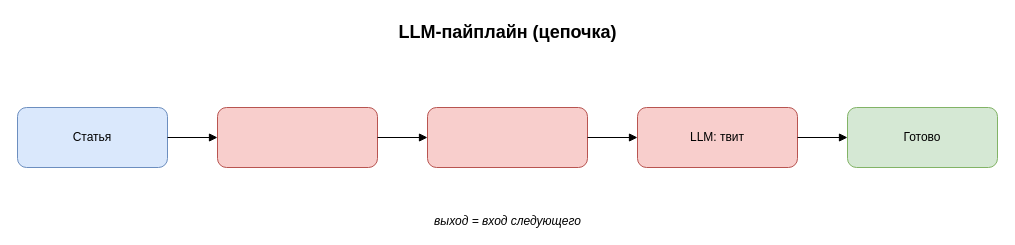
Image size: 1015x245. Some labels were removed from this diagram. Each missing label, with the box of its shape:
LLM: перевод: (426, 106, 588, 168)
LLM: суммаризация: (216, 106, 378, 168)
